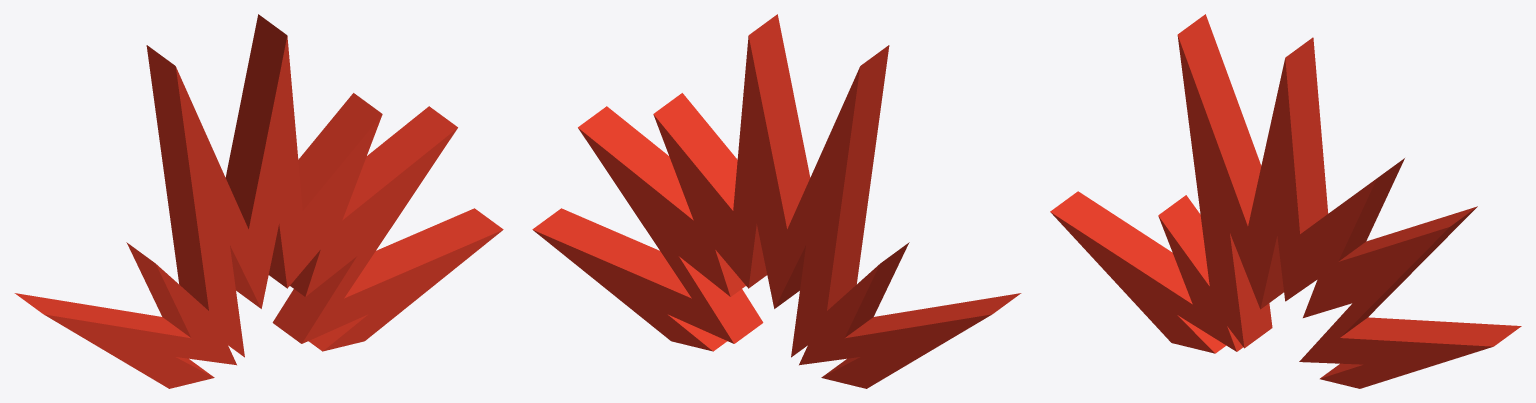
File: Icon_Explosion_01.fbx
3 renders of one model, left to right at view 1: azimuth 30°, elevation 25°; view 2: azimuth 150°, elevation 25°; view 3: azimuth 330°, elevation 25°, orthographic. The views are drawn at different scales.
Parts seen in each view (by area): view 1: Icon_Explosion_01; view 2: Icon_Explosion_01; view 3: Icon_Explosion_01.
Part boxes in pixels (<box>): Icon_Explosion_01: <box>14,14,503,388</box>; Icon_Explosion_01: <box>532,14,1021,388</box>; Icon_Explosion_01: <box>1050,14,1521,388</box>.
Bounding box in the file's own units: 110 × 74.11 × 12.06.
